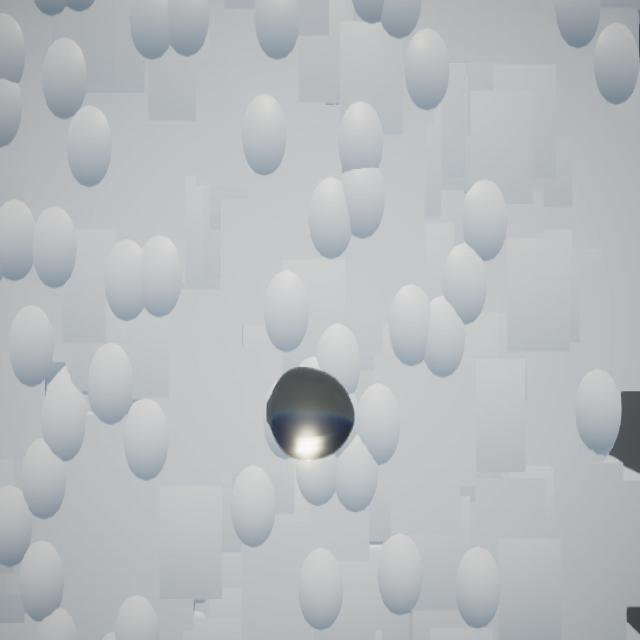top_spoon: (267, 368, 356, 462)
